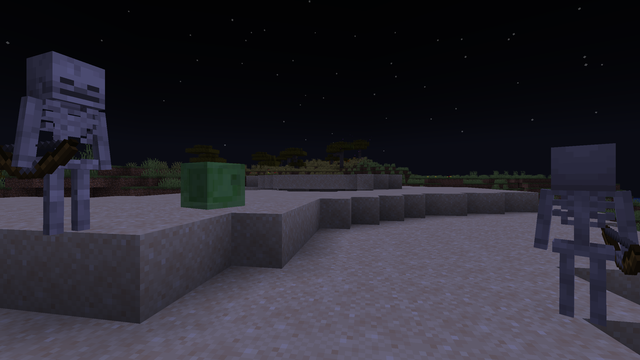slimes: (178, 160, 244, 209)
squelettes: (536, 144, 639, 335), (14, 50, 112, 237)
